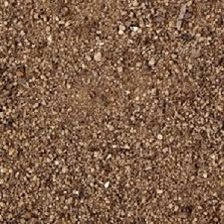sandy_soil: (7, 9, 207, 200)
